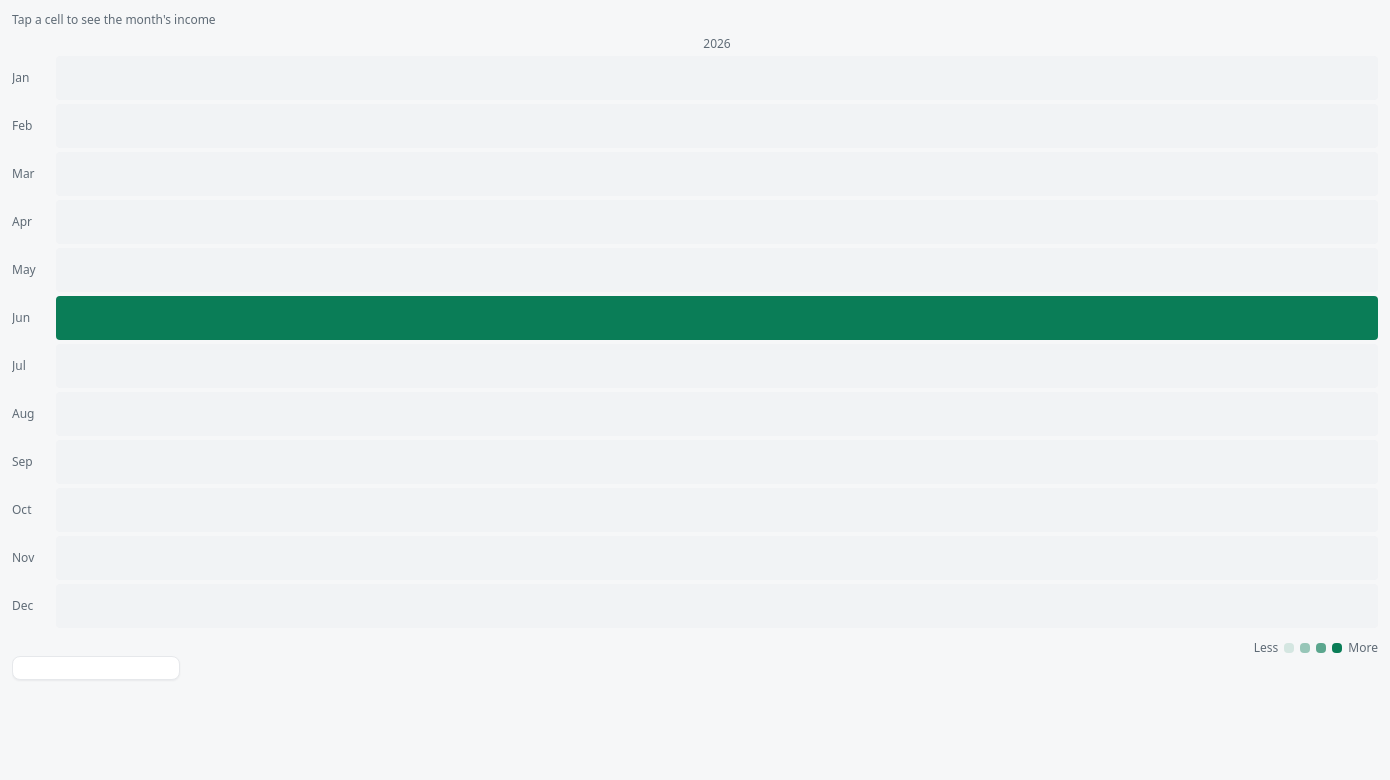
Test: IncomeHeatmap › defaults to a 'tap a cell' hint and updates it on click
Check: the text "Tap a cell to see the month's income" is shown, box [12,11,216,28]
Click the button titled "Jun 2026": (717, 318) [56,296,1378,340]
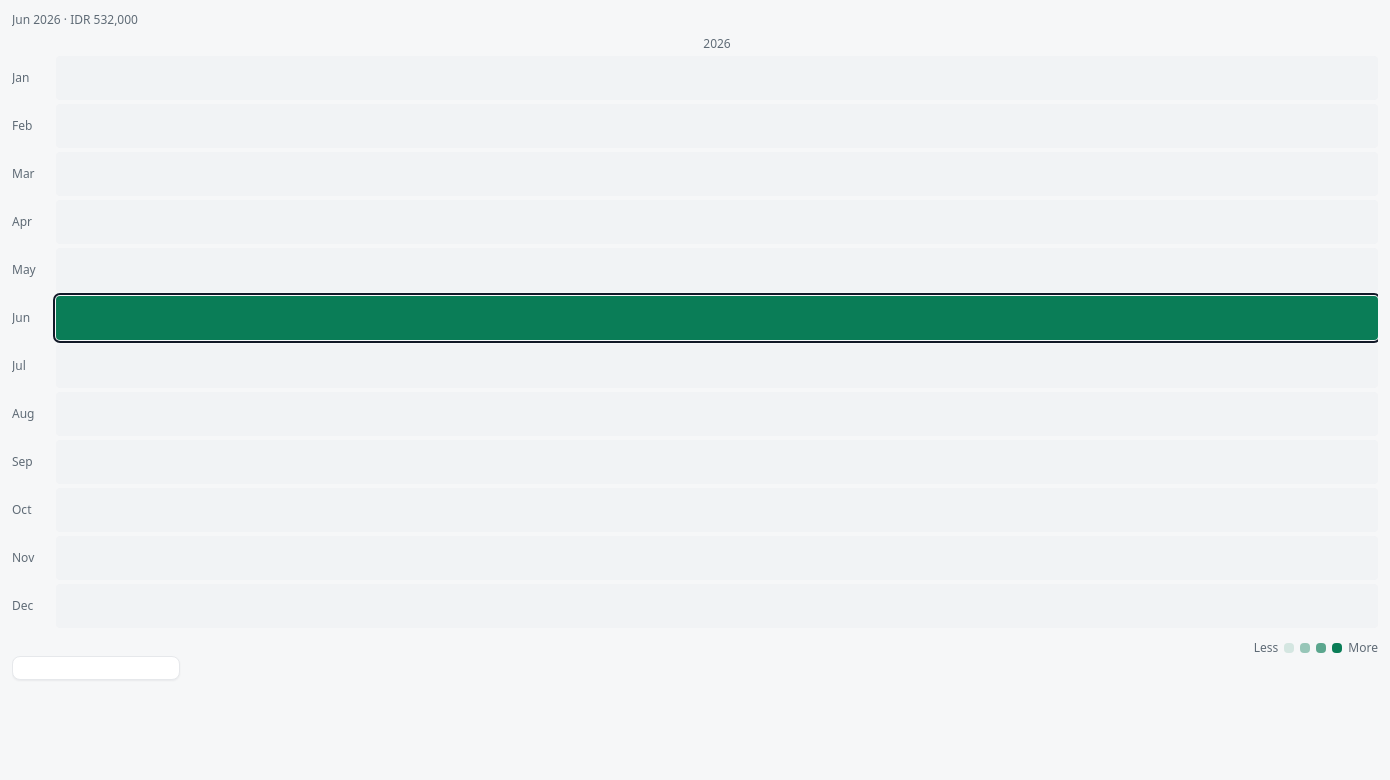
Check: the text "Jun 2026 · IDR 532,000" is shown, box [12,11,138,28]
